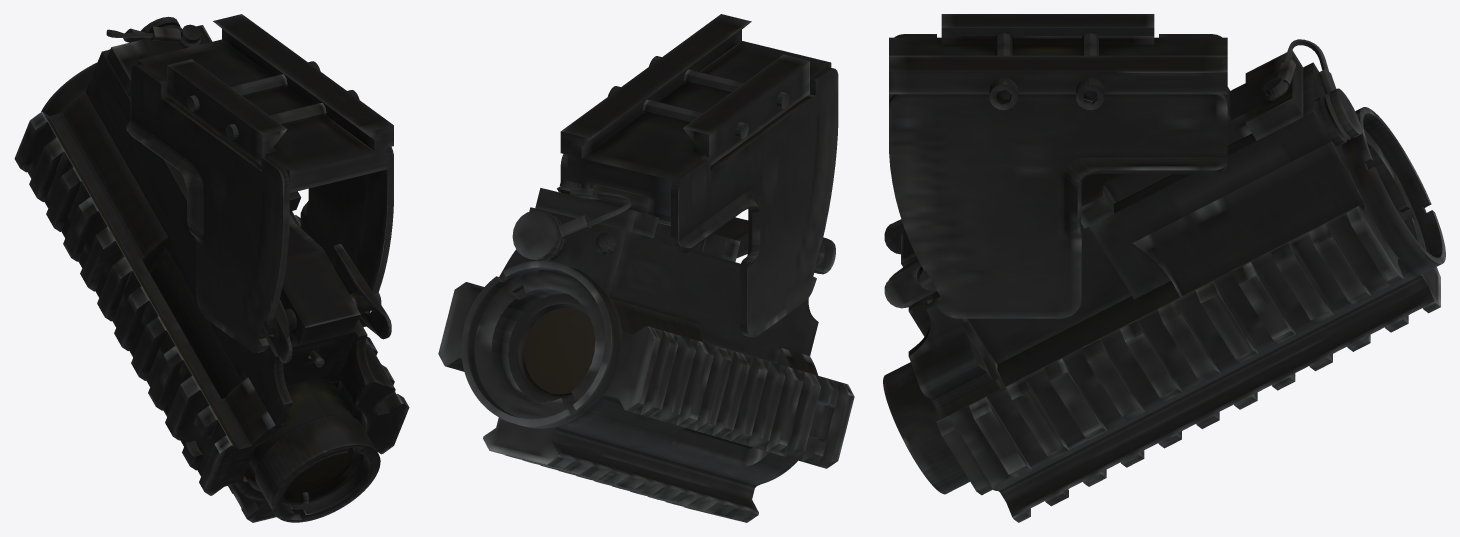
3 views of the same model, side by side, from view 1: azimuth 30°, elevation 25°; view 2: azimuth 150°, elevation 25°; view 3: azimuth 270°, elevation 25° (orthographic). The views are drawn at different scales.
Parts seen in each view (by area): view 1: TW_6284bd5f95250a29bc628a30_range400_PZ_Import; view 2: TW_6284bd5f95250a29bc628a30_range400_PZ_Import; view 3: TW_6284bd5f95250a29bc628a30_range400_PZ_Import.
Part boxes in pixels (<box>): TW_6284bd5f95250a29bc628a30_range400_PZ_Import: <box>14,14,409,522</box>; TW_6284bd5f95250a29bc628a30_range400_PZ_Import: <box>438,14,854,522</box>; TW_6284bd5f95250a29bc628a30_range400_PZ_Import: <box>883,14,1445,522</box>.
Bounding box in the file's own units: 0.0322 × 0.0745 × 0.0682.
1 material, 1 textured.
